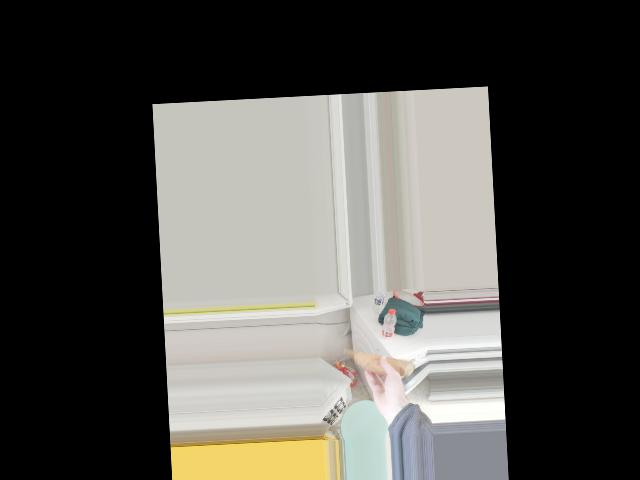sweet_potato: (345, 343, 411, 382)
